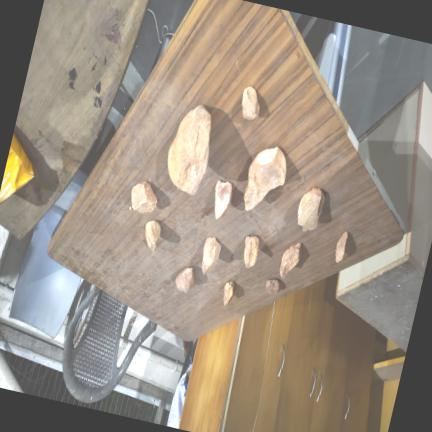Rocks: (167, 105, 210, 193), (243, 147, 285, 209), (297, 187, 324, 230), (131, 181, 156, 212), (279, 242, 300, 277), (201, 236, 220, 273), (173, 265, 197, 294), (214, 180, 231, 218), (241, 86, 258, 119), (144, 220, 160, 251), (243, 235, 258, 267), (335, 230, 347, 261), (223, 281, 233, 305), (265, 278, 279, 294)
